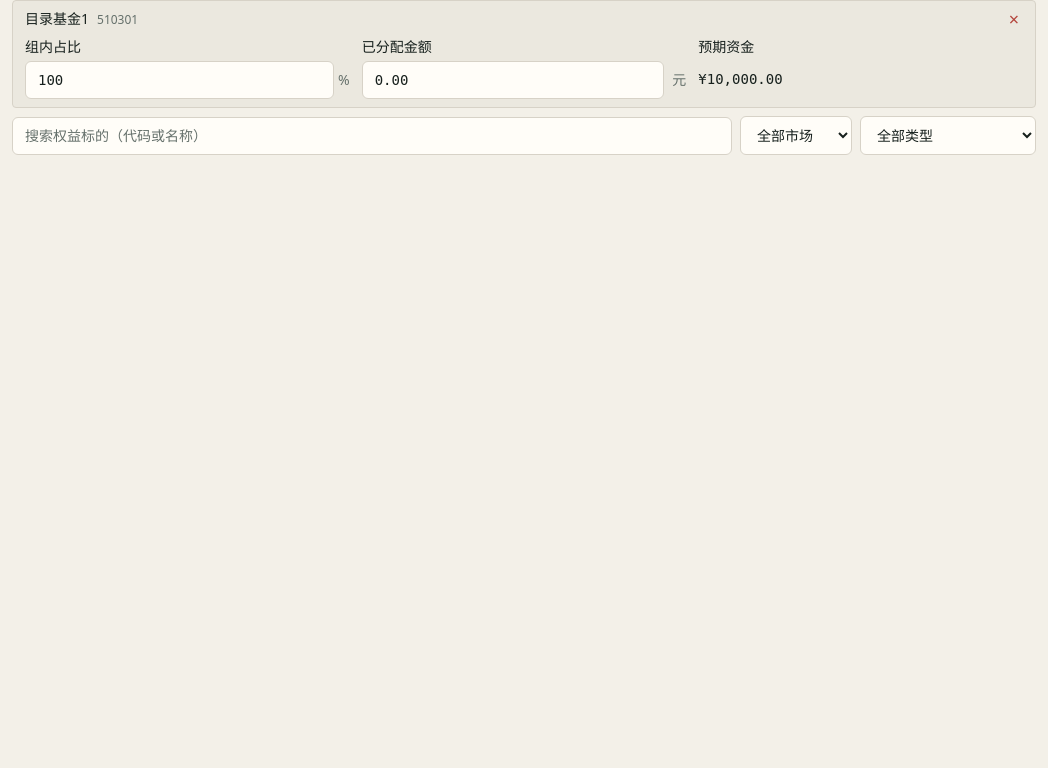
AssetClassHoldingPicker › hides already-selected assets from the candidate list
The image size is (1048, 768).
Focus the dropdown with test id "wizard-holding-search". click: point(372, 136)
box: [12, 116, 732, 154]
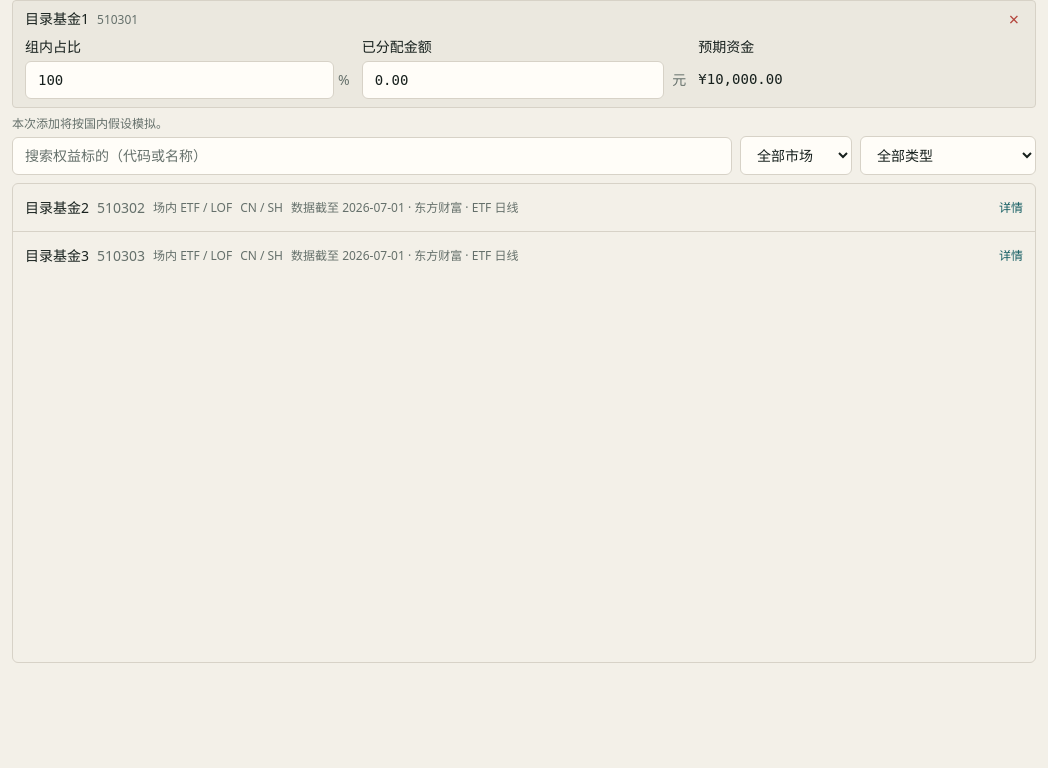
Expected: the button "目录基金2" is shown, [13, 184, 991, 231]
